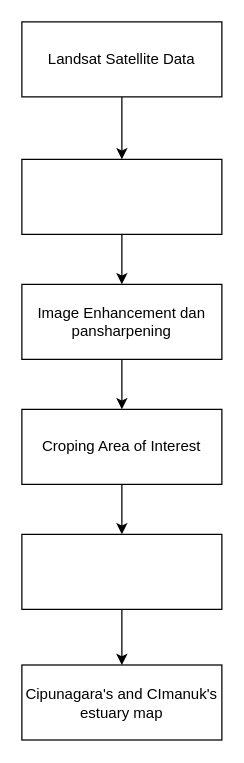
The diagram is 244 pixels wide and 763 high, and some of its shapes have lost their labels. Here are the shapes that lost their labels. From the top down, the centre of each, then its label:
At (x=121, y=196): "Geometry dan Radiometric Correction".
At (x=121, y=571): "Interpretation and Deliniation".
